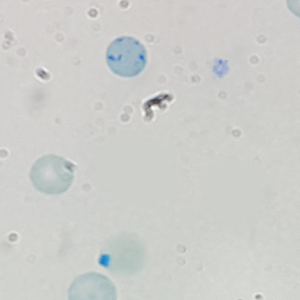aggregate reticulocyte: (104, 34, 150, 80)
erythrocyte: (97, 228, 149, 279), (28, 153, 77, 196)
